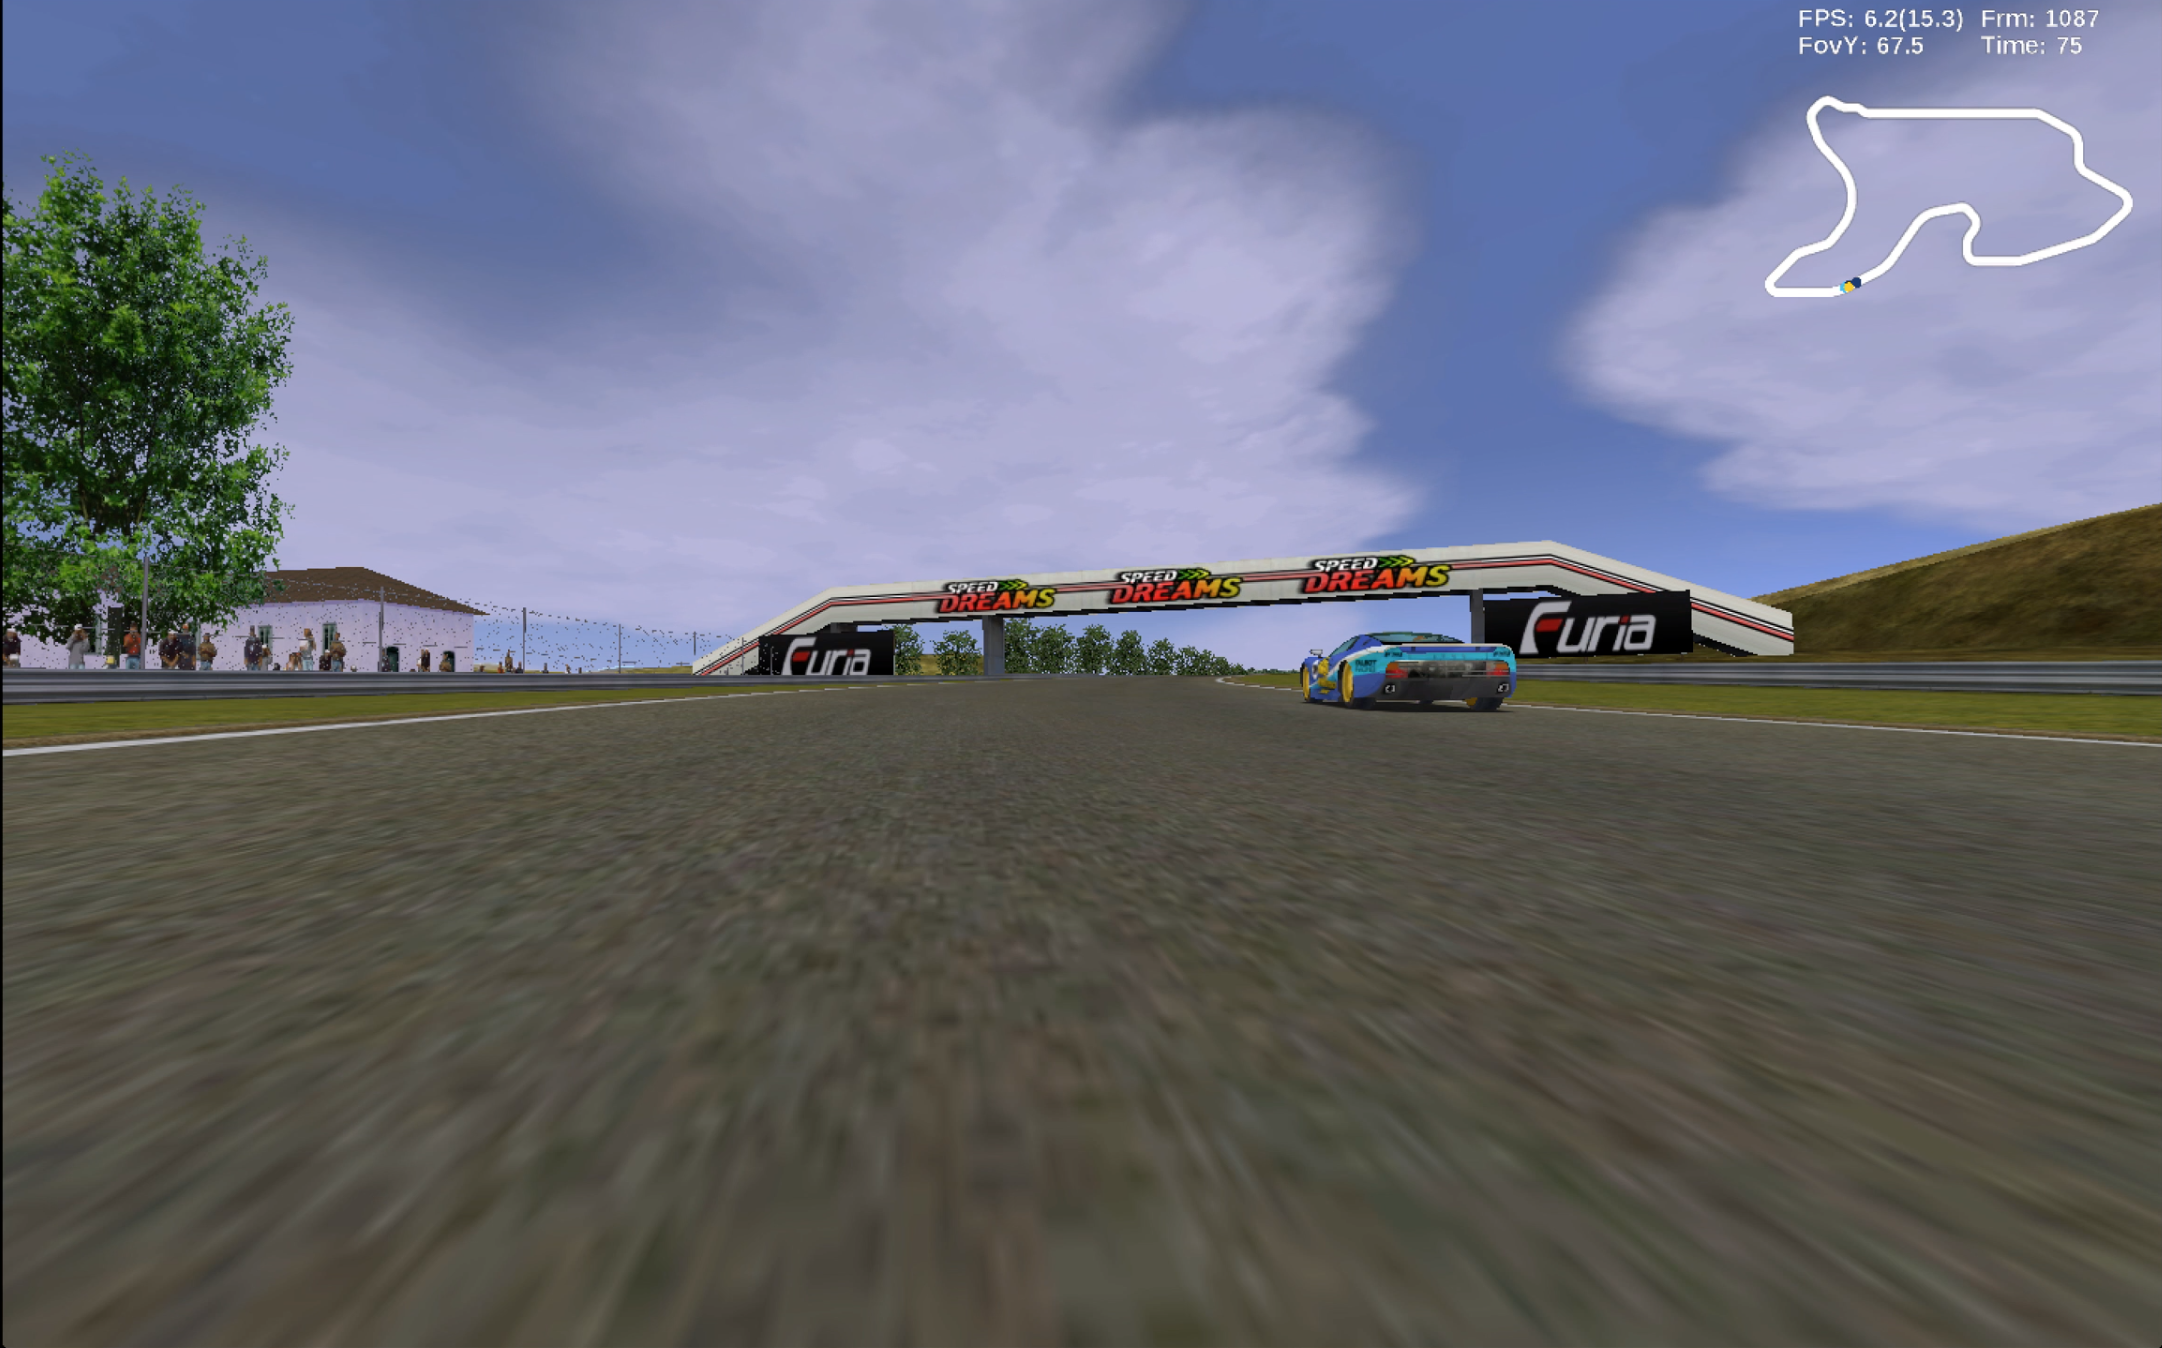Lynx220: (1294, 627, 1521, 714)
